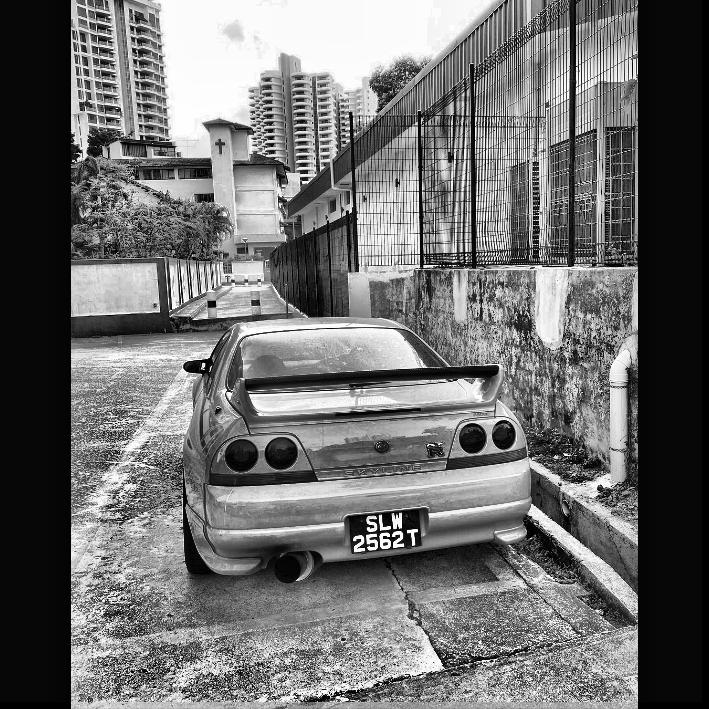License-Plates: (348, 509, 421, 554)
